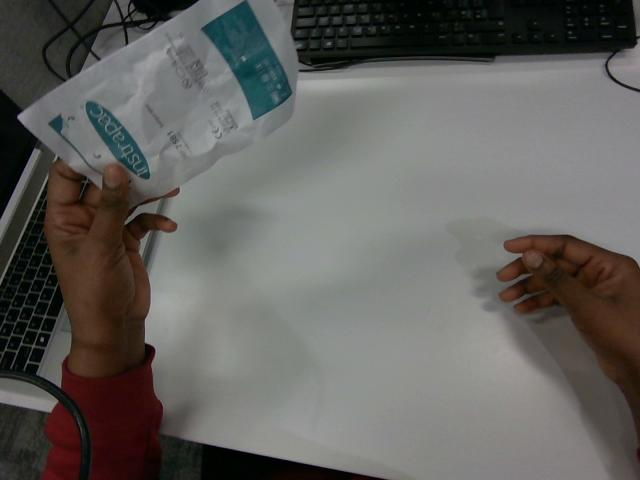gallipot: (19, 0, 297, 204)
